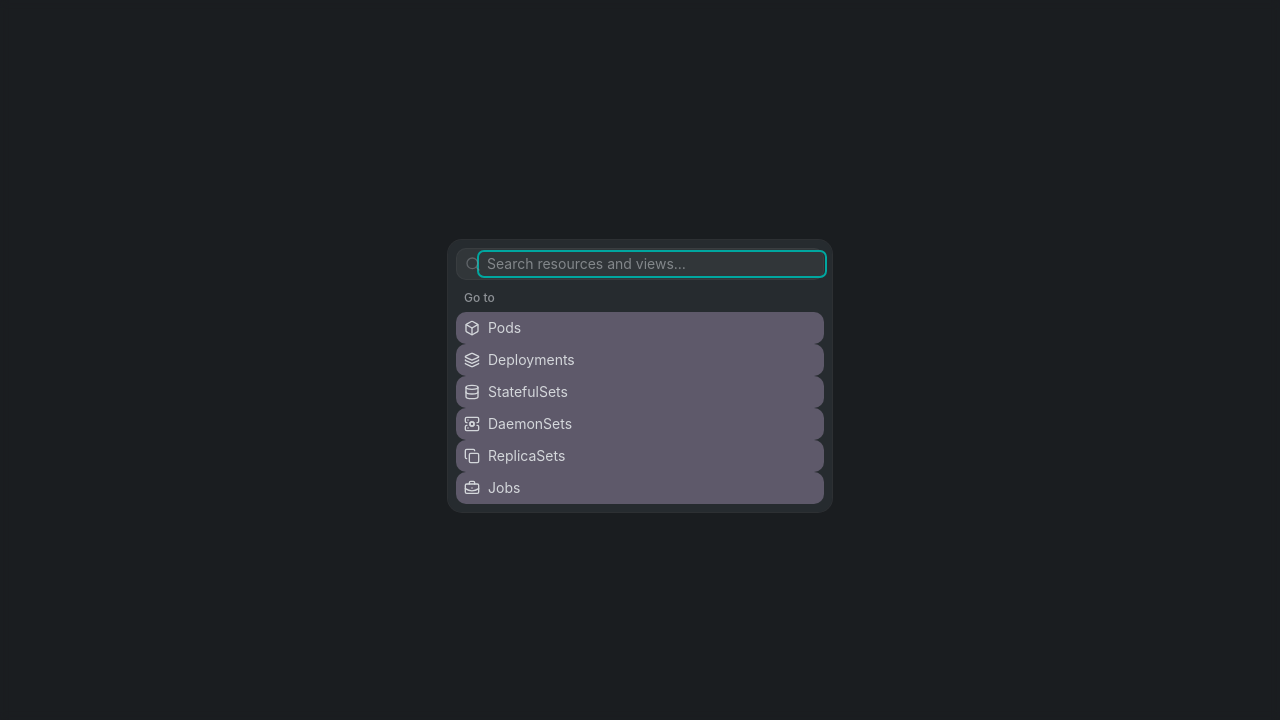
CommandPalette › narrows to the given kind when the query starts with a known kind token
This screenshot has width=1280, height=720.
In the dropdown with placeholder "Search resources and views…": (652, 264) [481,254,823,274], type "pod ng"
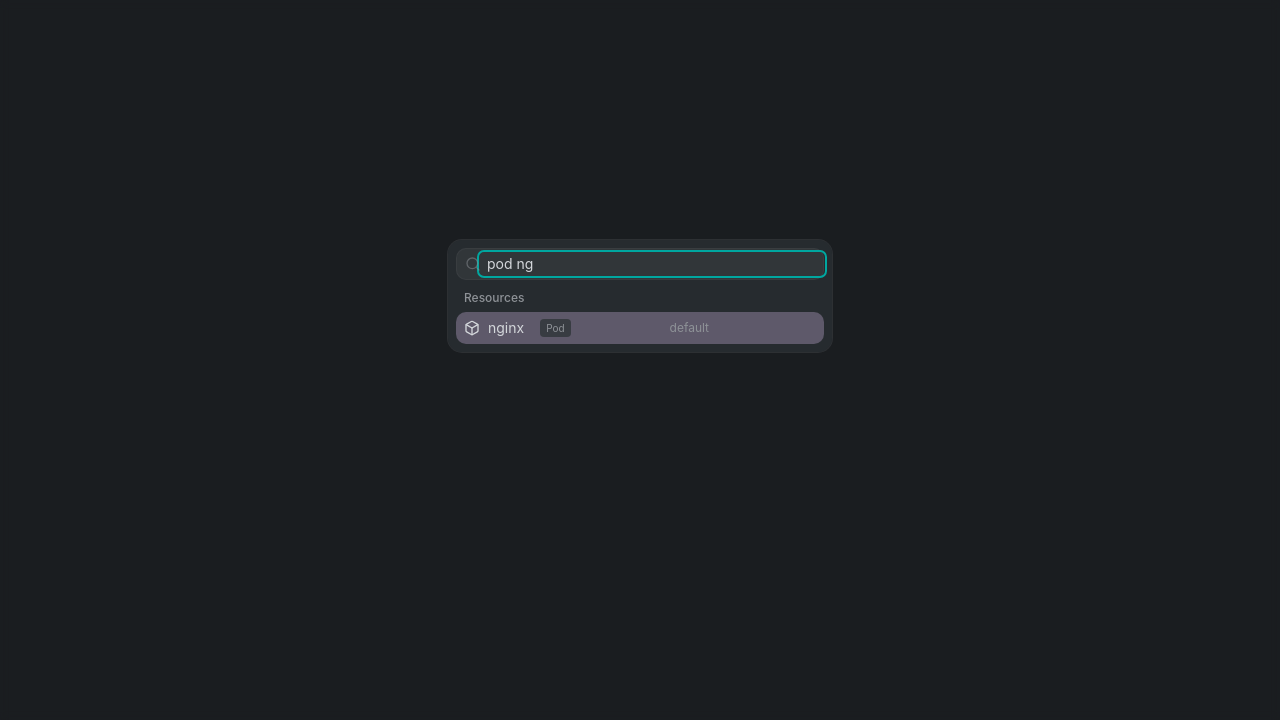
Check: the text "Pod" is shown, box [540,319,571,337]
Check: the text "nginx" is shown, box [488,318,524,338]
